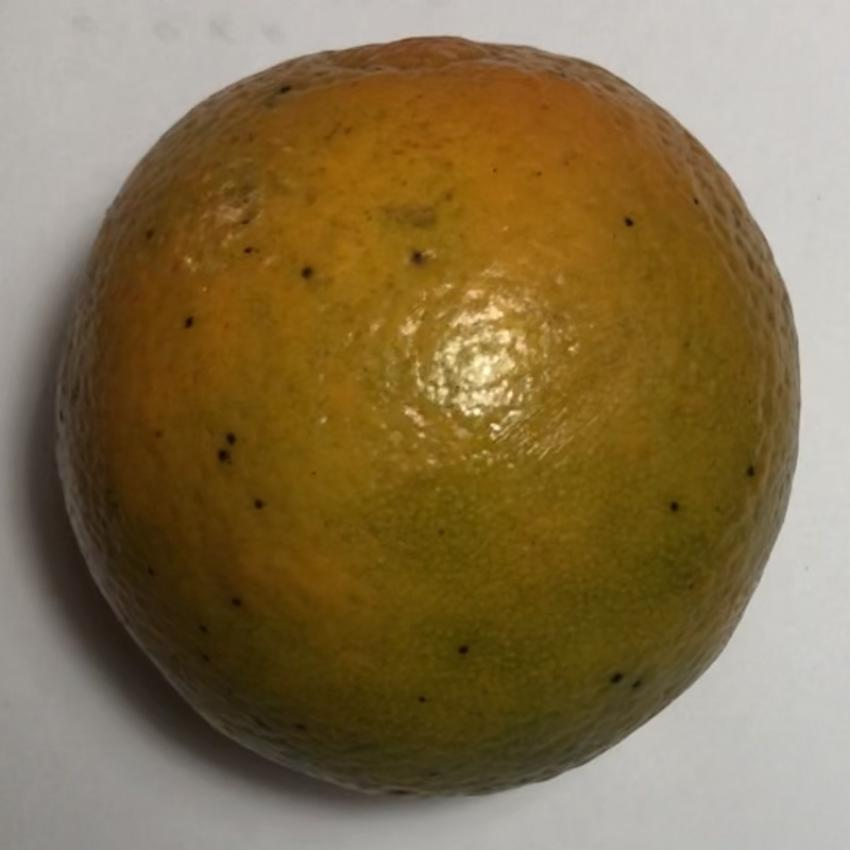Mal estado: (40, 19, 815, 816)
